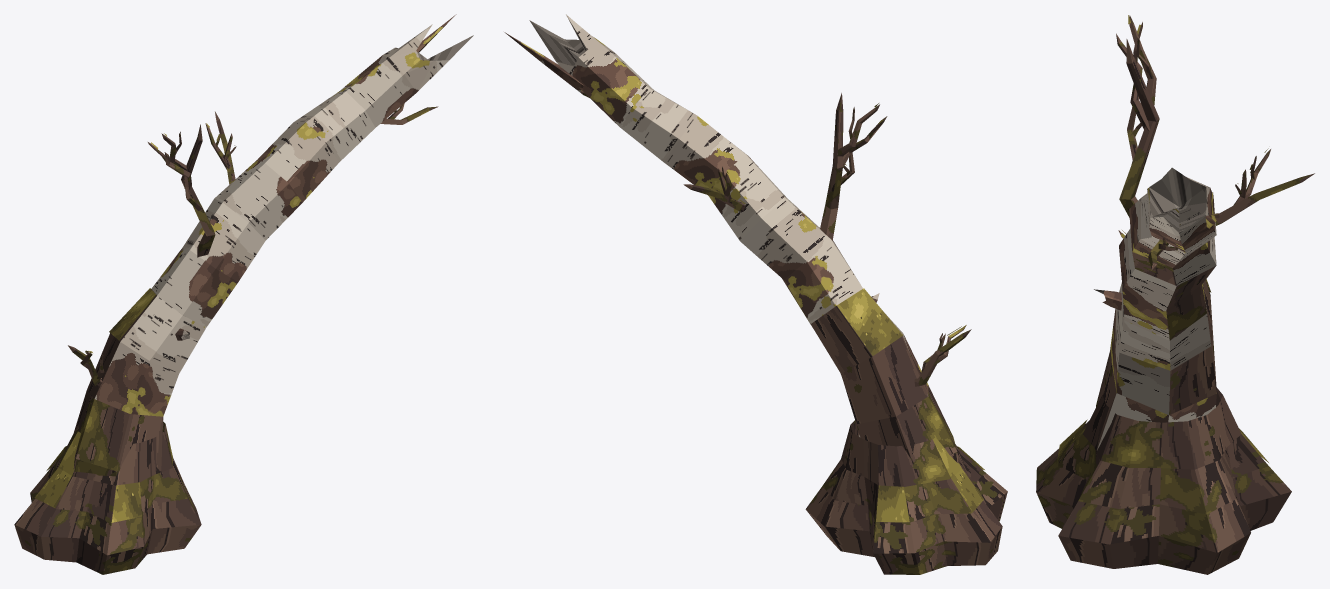
File: SM_SW07_DiagonalSnag.fbx
3 views of the same model, side by side, from view 1: azimuth 30°, elevation 25°; view 2: azimuth 150°, elevation 25°; view 3: azimuth 270°, elevation 25° (orthographic). The views are drawn at different scales.
Parts seen in each view (by area): view 1: SW07c_Birch, SW07c_Bark, SW07c_Moss; view 2: SW07c_Bark, SW07c_Birch, SW07c_Moss, SW07c_Props; view 3: SW07c_Bark, SW07c_Birch, SW07c_Props, SW07c_Moss.
Boxes of the visible parts, x1,y1,x2,y2 form: SW07c_Birch: [94, 14, 456, 416]; SW07c_Bark: [14, 103, 438, 574]; SW07c_Moss: [34, 123, 234, 522]; SW07c_Bark: [580, 91, 1007, 574]; SW07c_Birch: [504, 14, 928, 436]; SW07c_Moss: [725, 103, 984, 522]; SW07c_Props: [529, 16, 587, 66]; SW07c_Bark: [1036, 15, 1314, 574]; SW07c_Birch: [1097, 177, 1221, 450]; SW07c_Props: [1094, 167, 1206, 294]; SW07c_Moss: [1056, 15, 1268, 463].
Size of the model in its own units: 4.71 by 4.23 by 1.84.
